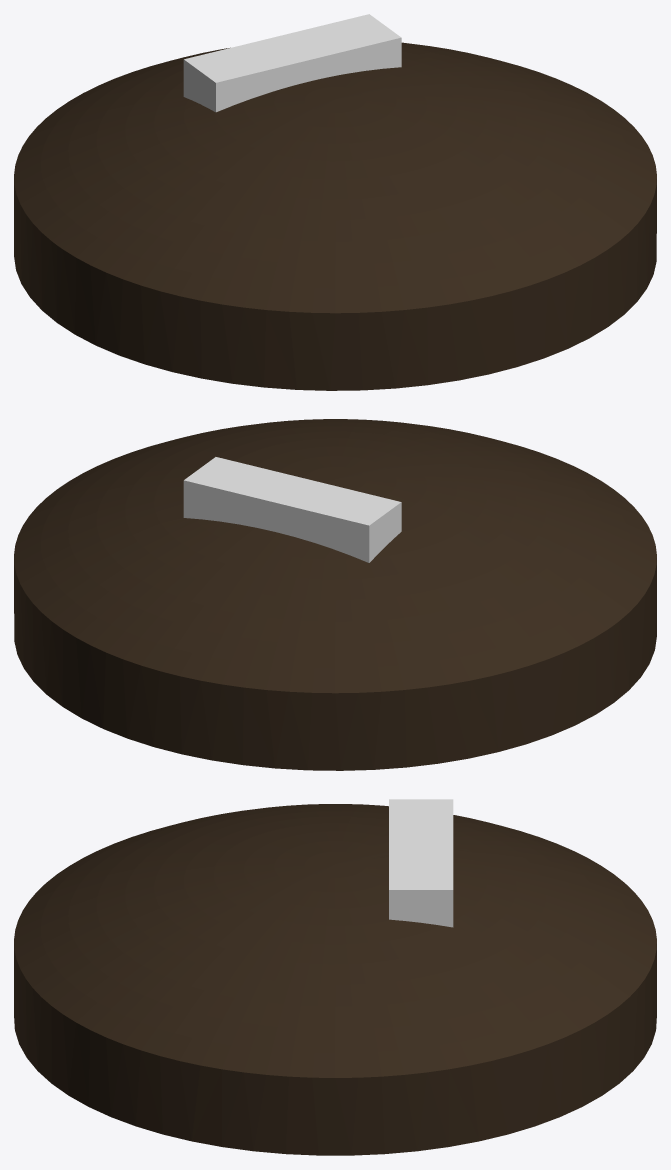
File: mound.fbx
3 views of the same model, one above another, from view 1: azimuth 30°, elevation 25°; view 2: azimuth 150°, elevation 25°; view 3: azimuth 270°, elevation 25° (orthographic).
Visible parts, largest first — view 1: model:Mesh; view 2: model:Mesh; view 3: model:Mesh.
Part boxes in pixels (left/top/right/bottom): model:Mesh: left=14, top=14, right=656, bottom=390; model:Mesh: left=14, top=419, right=656, bottom=770; model:Mesh: left=14, top=799, right=656, bottom=1155.
Size of the model in its own units: 15.28 by 4.59 by 15.28.
